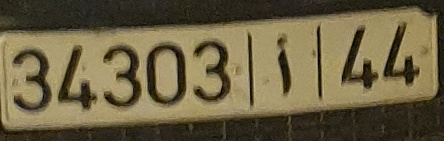0: (144, 40, 188, 108)
3: (9, 46, 54, 114), (101, 42, 143, 110), (191, 39, 232, 104)
4: (55, 42, 99, 112), (337, 23, 381, 93), (381, 21, 422, 88)
a: (273, 31, 294, 100)
